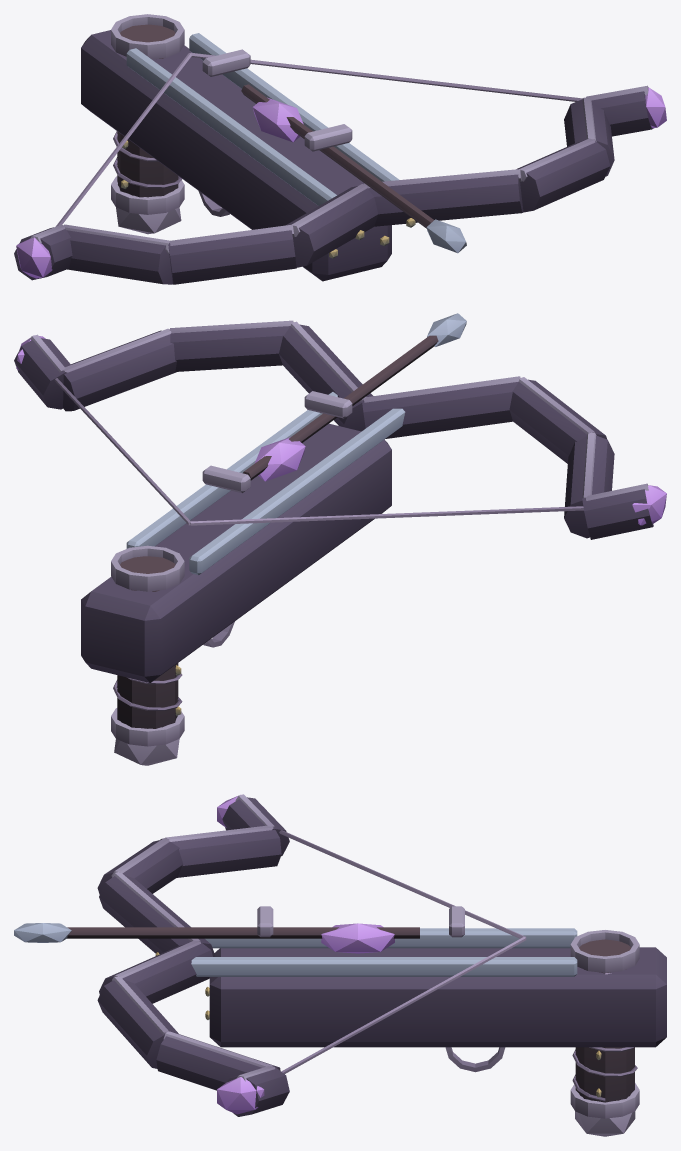
Rendered from ballesta_alas_eclipse.glb.
The picture shows the model from 3 angles, top to bottom: view 1: azimuth 30°, elevation 25°; view 2: azimuth 150°, elevation 25°; view 3: azimuth 270°, elevation 25°; orthographic projection. The views are drawn at different scales.
Parts seen in each view (by area): view 1: ballesta_alas_eclipse_finished; view 2: ballesta_alas_eclipse_finished; view 3: ballesta_alas_eclipse_finished.
Boxes of the visible parts, box(x1,y1,x2,y2) form: ballesta_alas_eclipse_finished: box(14, 14, 666, 284); ballesta_alas_eclipse_finished: box(14, 313, 666, 765); ballesta_alas_eclipse_finished: box(14, 794, 666, 1136).
Bounding box in the file's own units: 1.12 × 0.3965 × 1.06.
Materials: 2 (2 with a texture image).
